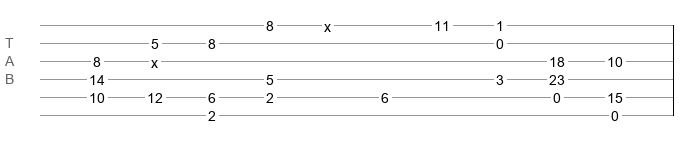0: (496, 36, 504, 46), (553, 90, 561, 100), (611, 108, 619, 118)
1: (496, 18, 504, 28)
10: (89, 90, 105, 100), (607, 54, 623, 64)
11: (434, 18, 450, 28)
12: (147, 90, 163, 100)
14: (89, 72, 105, 82)
15: (607, 90, 623, 100)
18: (549, 54, 565, 64)
2: (208, 108, 216, 118), (266, 90, 274, 100)
23: (549, 72, 565, 82)
3: (496, 72, 504, 82)
5: (151, 36, 159, 46), (266, 72, 274, 82)
6: (208, 90, 216, 100), (381, 90, 389, 100)
8: (93, 54, 101, 64), (208, 36, 216, 46), (266, 18, 274, 28)
x: (151, 55, 158, 63), (324, 19, 331, 27)
